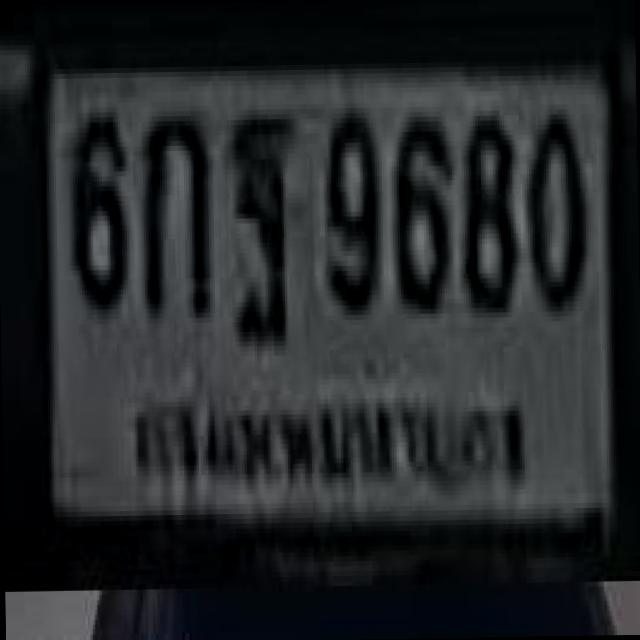license_plate: (19, 23, 640, 598)
